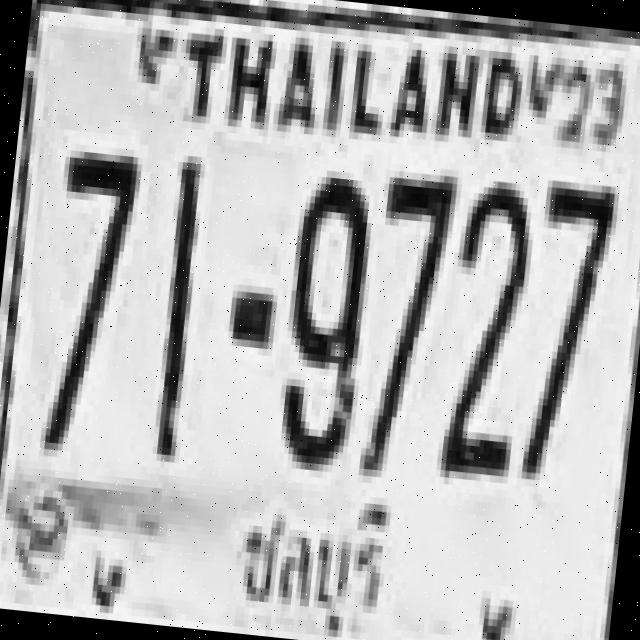0: (276, 168, 372, 453)
1: (148, 158, 206, 452)
2: (436, 172, 534, 476)
7: (35, 146, 138, 452), (355, 166, 453, 472), (518, 173, 616, 478), (521, 177, 615, 440), (362, 166, 453, 396), (527, 173, 616, 383), (366, 166, 454, 369)
9: (272, 168, 374, 466)
Chonburi: (219, 482, 405, 640)
